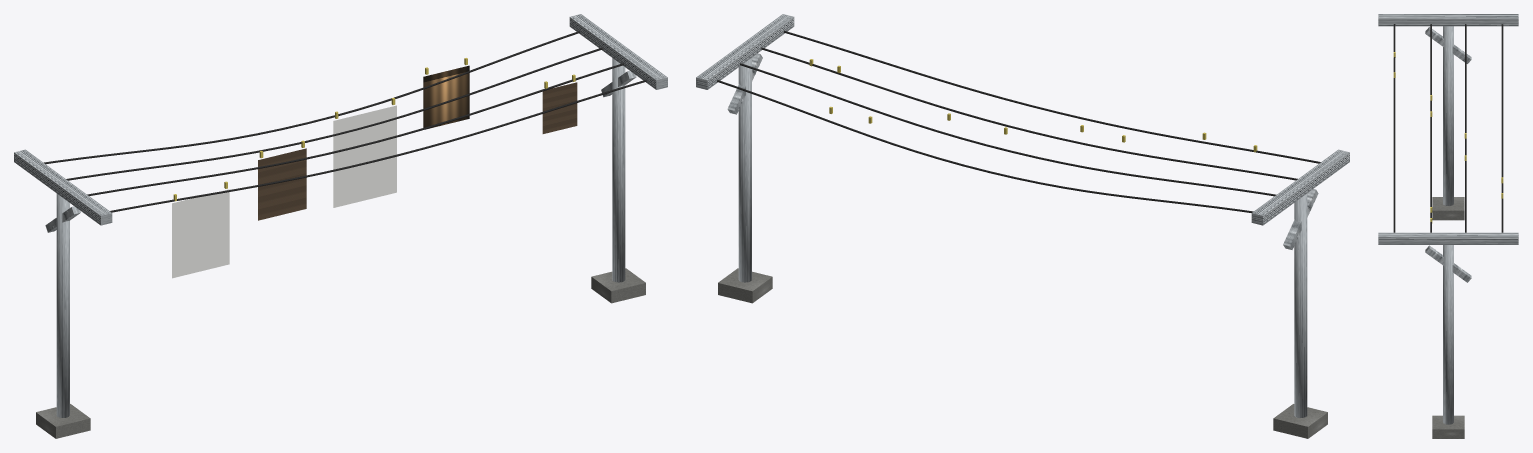
File: WK_PRP_ClothesLine.glb
3 views of the same model, side by side, from view 1: azimuth 30°, elevation 25°; view 2: azimuth 150°, elevation 25°; view 3: azimuth 270°, elevation 25° (orthographic). The views are drawn at different scales.
Visible parts, largest first — view 1: WK_PRP_ClothesLine_P19, WK_PRP_ClothesLine_P13, WK_PRP_ClothesLine_P01, WK_PRP_ClothesLine_P05, WK_PRP_ClothesLine_P16, WK_PRP_ClothesLine_P22, WK_PRP_ClothesLine_P02, WK_PRP_ClothesLine_P06, WK_PRP_ClothesLine_P25, WK_PRP_ClothesLine_P09, WK_PRP_ClothesLine_P10, WK_PRP_ClothesLine_P12 (+3 smaller); view 2: WK_PRP_ClothesLine_P01, WK_PRP_ClothesLine_P05, WK_PRP_ClothesLine_P02, WK_PRP_ClothesLine_P06, WK_PRP_ClothesLine_P11, WK_PRP_ClothesLine_P10, WK_PRP_ClothesLine_P12, WK_PRP_ClothesLine_P09, WK_PRP_ClothesLine_P04, WK_PRP_ClothesLine_P08; view 3: WK_PRP_ClothesLine_P01, WK_PRP_ClothesLine_P05, WK_PRP_ClothesLine_P06, WK_PRP_ClothesLine_P02, WK_PRP_ClothesLine_P04, WK_PRP_ClothesLine_P08, WK_PRP_ClothesLine_P09, WK_PRP_ClothesLine_P12, WK_PRP_ClothesLine_P11, WK_PRP_ClothesLine_P07, WK_PRP_ClothesLine_P10, WK_PRP_ClothesLine_P03.
Part boxes in pixels (x1=…): WK_PRP_ClothesLine_P19: x1=333, y1=105, x2=396, y2=207; WK_PRP_ClothesLine_P13: x1=172, y1=189, x2=229, y2=278; WK_PRP_ClothesLine_P01: x1=56, y1=193, x2=69, y2=417; WK_PRP_ClothesLine_P05: x1=612, y1=58, x2=625, y2=282; WK_PRP_ClothesLine_P16: x1=258, y1=148, x2=306, y2=220; WK_PRP_ClothesLine_P22: x1=423, y1=65, x2=469, y2=129; WK_PRP_ClothesLine_P02: x1=14, y1=149, x2=112, y2=225; WK_PRP_ClothesLine_P06: x1=569, y1=14, x2=667, y2=89; WK_PRP_ClothesLine_P25: x1=542, y1=82, x2=577, y2=133; WK_PRP_ClothesLine_P09: x1=110, y1=80, x2=646, y2=212; WK_PRP_ClothesLine_P10: x1=87, y1=63, x2=623, y2=195; WK_PRP_ClothesLine_P12: x1=44, y1=31, x2=579, y2=164; WK_PRP_ClothesLine_P01: x1=1294, y1=193, x2=1307, y2=417; WK_PRP_ClothesLine_P05: x1=738, y1=58, x2=751, y2=282; WK_PRP_ClothesLine_P02: x1=1251, y1=149, x2=1349, y2=225; WK_PRP_ClothesLine_P06: x1=696, y1=14, x2=794, y2=89; WK_PRP_ClothesLine_P11: x1=740, y1=63, x2=1276, y2=196; WK_PRP_ClothesLine_P10: x1=761, y1=47, x2=1297, y2=180; WK_PRP_ClothesLine_P12: x1=717, y1=80, x2=1253, y2=212; WK_PRP_ClothesLine_P09: x1=784, y1=30, x2=1320, y2=163; WK_PRP_ClothesLine_P04: x1=1273, y1=404, x2=1327, y2=438; WK_PRP_ClothesLine_P08: x1=718, y1=268, x2=772, y2=303; WK_PRP_ClothesLine_P01: x1=1443, y1=26, x2=1453, y2=205; WK_PRP_ClothesLine_P05: x1=1443, y1=245, x2=1453, y2=424; WK_PRP_ClothesLine_P06: x1=1378, y1=232, x2=1518, y2=244; WK_PRP_ClothesLine_P02: x1=1378, y1=14, x2=1518, y2=26; WK_PRP_ClothesLine_P04: x1=1432, y1=197, x2=1464, y2=220; WK_PRP_ClothesLine_P08: x1=1432, y1=415, x2=1464, y2=438; WK_PRP_ClothesLine_P09: x1=1393, y1=24, x2=1395, y2=232; WK_PRP_ClothesLine_P12: x1=1501, y1=24, x2=1503, y2=232; WK_PRP_ClothesLine_P11: x1=1465, y1=24, x2=1466, y2=232; WK_PRP_ClothesLine_P07: x1=1425, y1=245, x2=1471, y2=282; WK_PRP_ClothesLine_P10: x1=1430, y1=24, x2=1431, y2=232; WK_PRP_ClothesLine_P03: x1=1425, y1=27, x2=1471, y2=63.
Bounding box in the file's own units: 5.1 × 2.02 × 1.3.
Materials: 7 (4 with a texture image).
